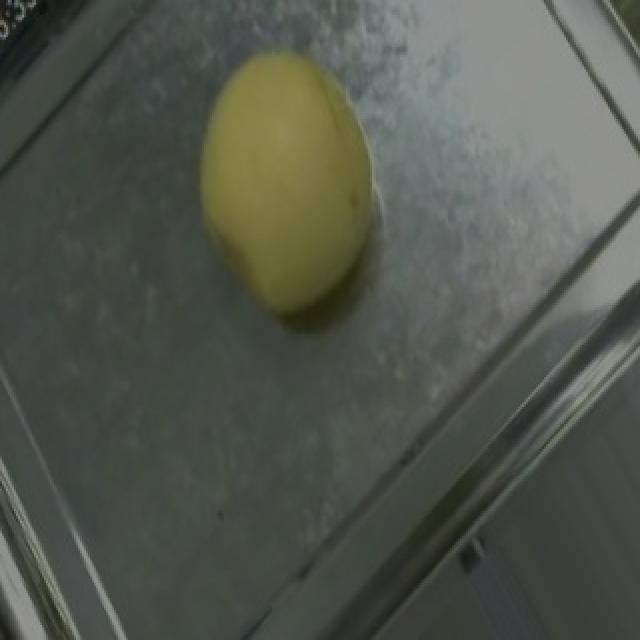Fruit: (148, 10, 430, 352)
